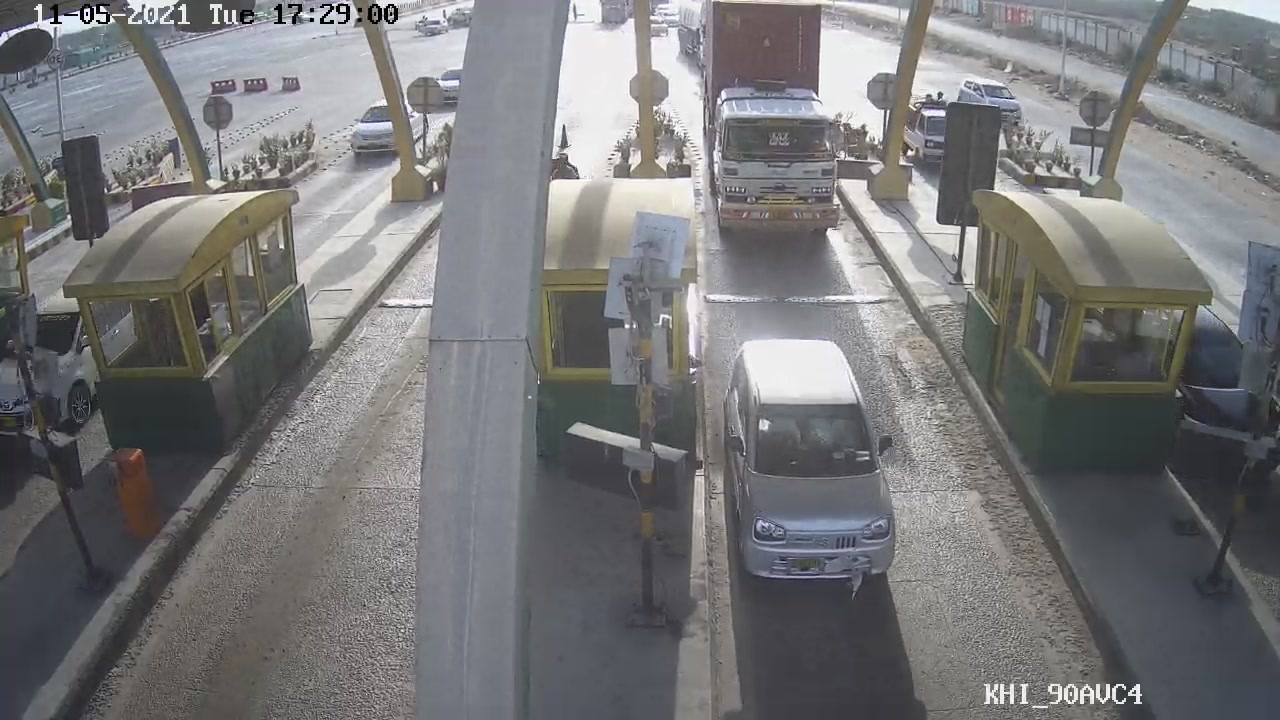F1: (713, 334, 901, 595)
F6: (695, 14, 862, 235)
